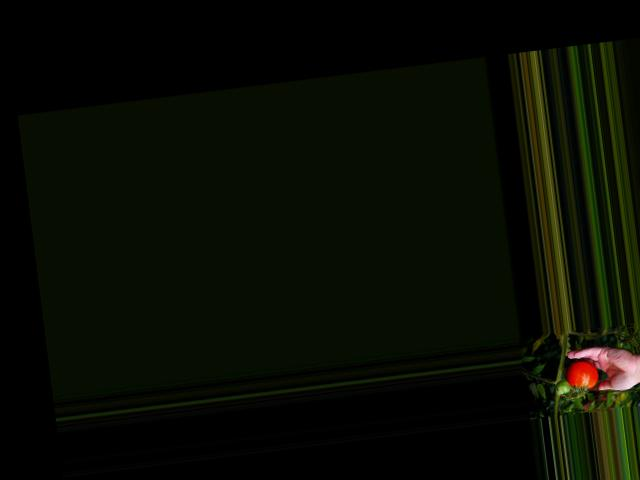tomato: (563, 358, 600, 391)
